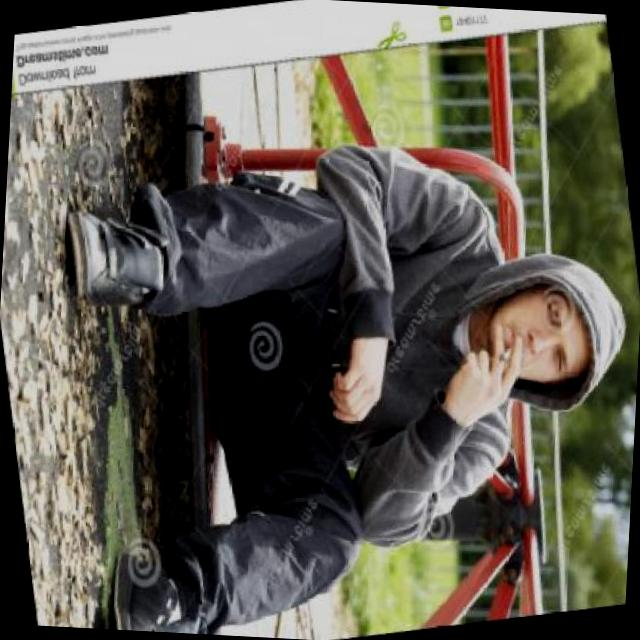cigarette: (495, 344, 514, 364)
